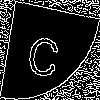C: (24, 25, 64, 80)
